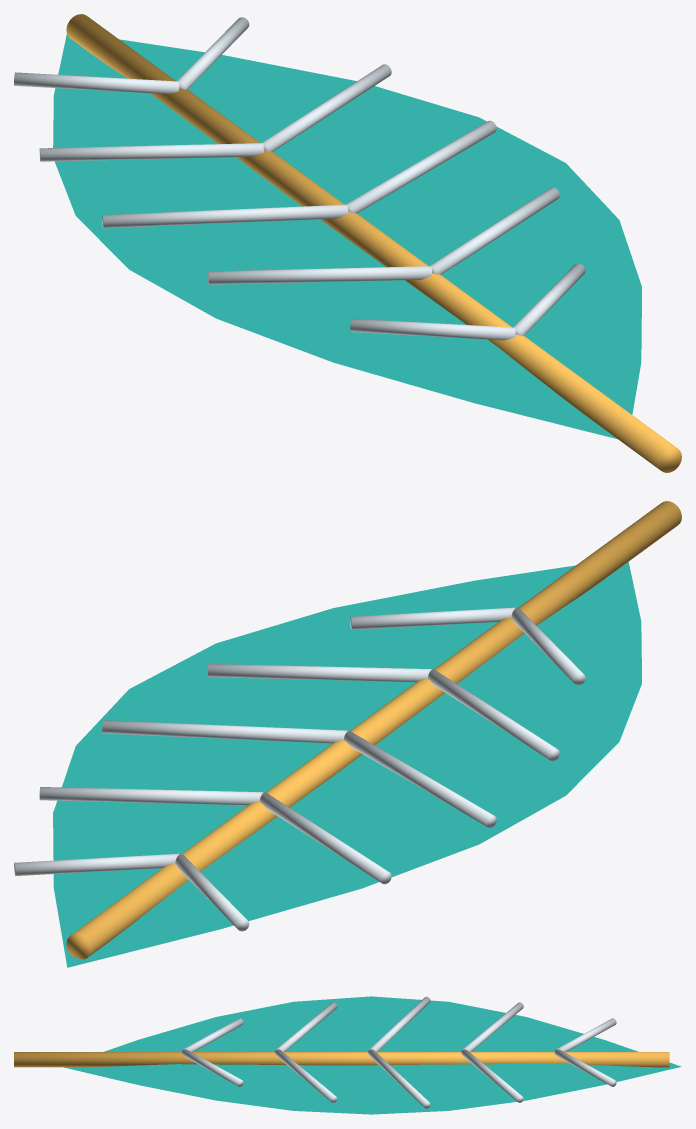
Rendered from leaf-quality.glb.
3 views of the same model, one above another, from view 1: azimuth 30°, elevation 25°; view 2: azimuth 150°, elevation 25°; view 3: azimuth 270°, elevation 25° (orthographic). The views are drawn at different scales.
Visible parts, largest first — view 1: Leaf blade; view 2: Leaf blade; view 3: Leaf blade.
Boxes of the visible parts, <box> form: Leaf blade: <box>14,14,681,472</box>; Leaf blade: <box>14,501,681,967</box>; Leaf blade: <box>14,996,681,1114</box>.
Size of the model in its own units: 0.9 by 0.062 by 2.15.
